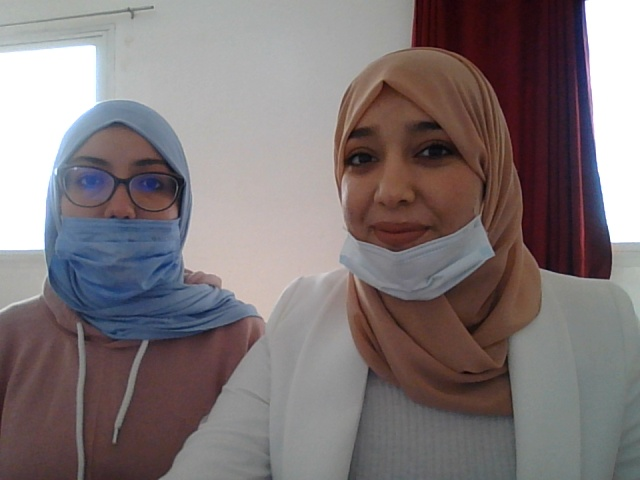mask_weared_incorrect: (312, 59, 503, 307), (38, 94, 211, 316)
